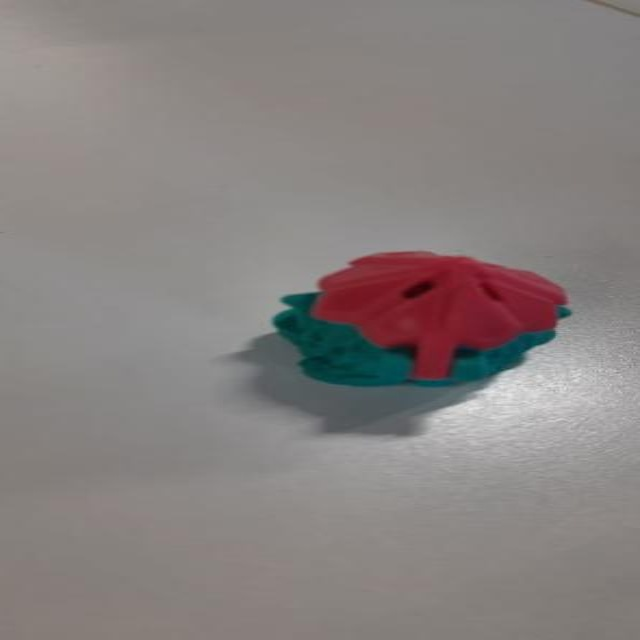House: (273, 242, 564, 394)
